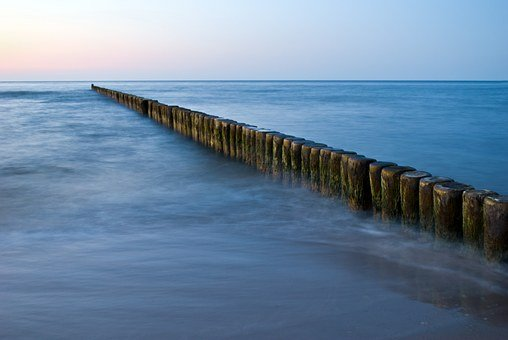sea: (4, 84, 508, 337)
sky: (2, 4, 505, 81)
